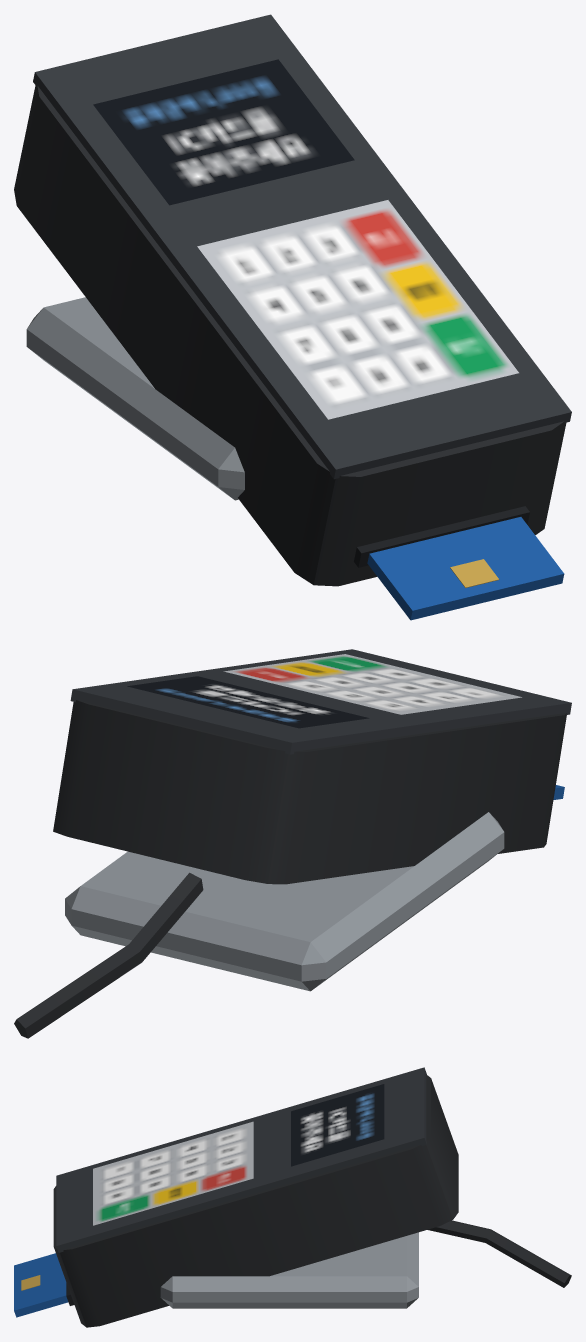
The model's file is SC_Fix_Card_Terminal.gltf.
3 views of the same model, one above another, from view 1: azimuth 30°, elevation 25°; view 2: azimuth 150°, elevation 25°; view 3: azimuth 270°, elevation 25° (orthographic). The views are drawn at different scales.
Visible parts, largest first — view 1: SC_Fix_Card_Terminal; view 2: SC_Fix_Card_Terminal; view 3: SC_Fix_Card_Terminal.
Part boxes in pixels (x1,y1,x2,y2): SC_Fix_Card_Terminal: (14, 14, 571, 620); SC_Fix_Card_Terminal: (14, 649, 571, 1038); SC_Fix_Card_Terminal: (14, 1067, 571, 1327).
Bounding box in the file's own units: 0.1 × 0.1069 × 0.2811.
Materials: 3 (3 with a texture image).
